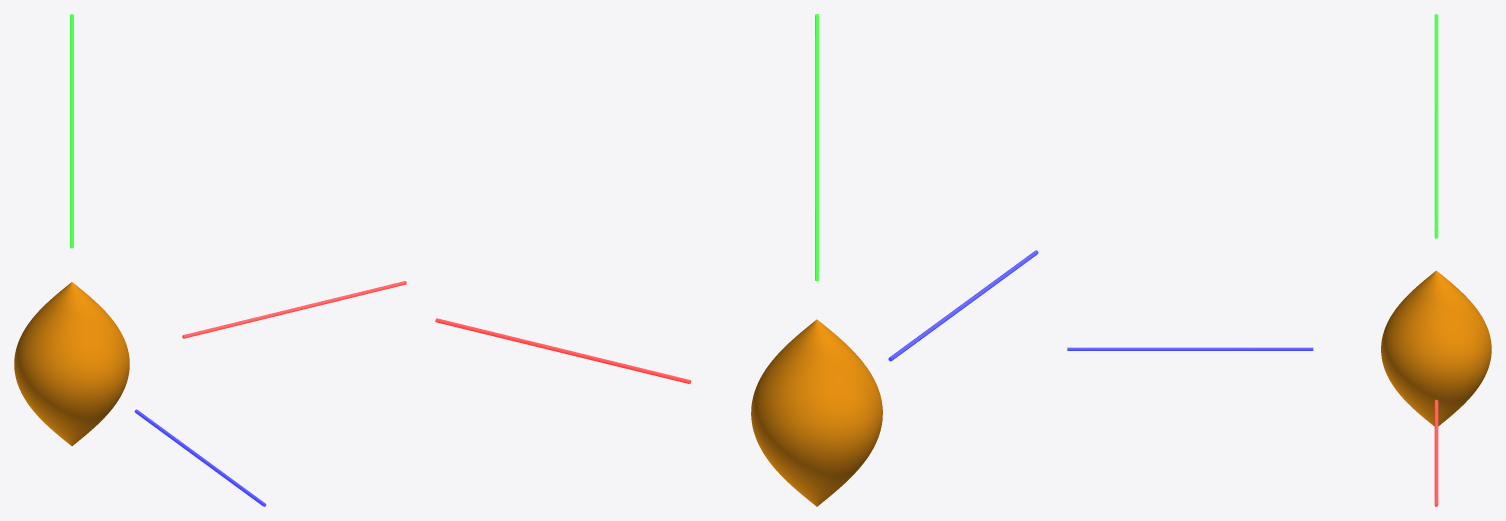
Rendered from solid-of-revolution-sinx.glb.
3 renders of one model, left to right at view 1: azimuth 30°, elevation 25°; view 2: azimuth 150°, elevation 25°; view 3: azimuth 270°, elevation 25°, orthographic. The views are drawn at different scales.
Bounding box in the file's own units: 1.72 × 1.85 × 1.72.
